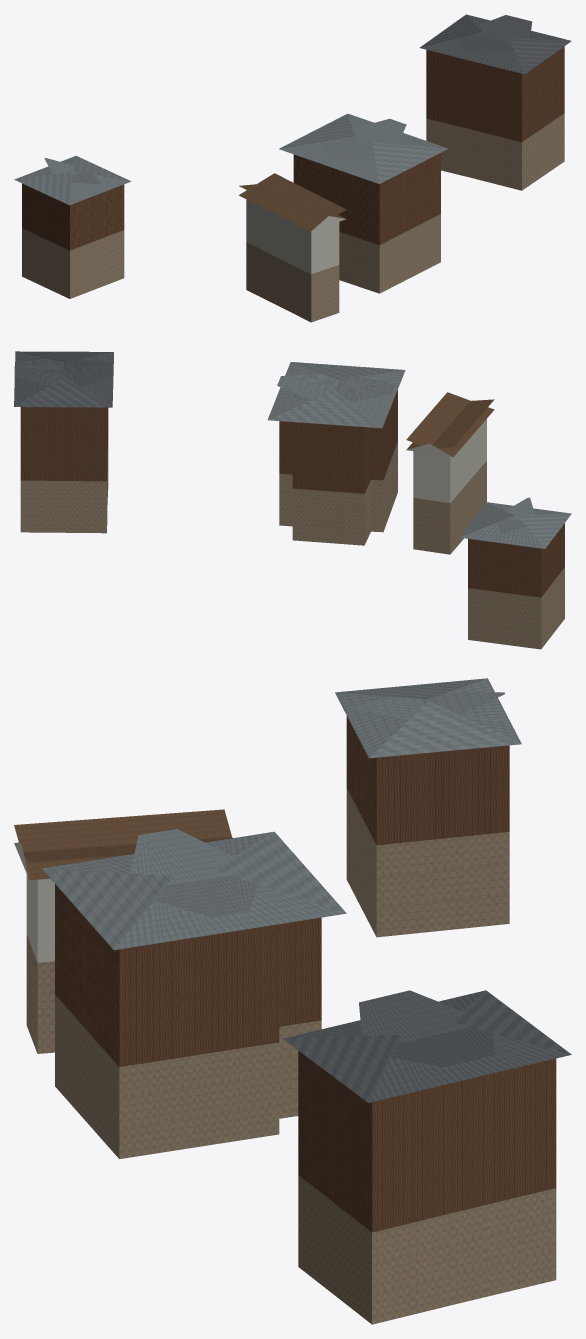
File: bld_c11_18_432.gltf
3 renders of one model, top to bottom at view 1: azimuth 30°, elevation 25°; view 2: azimuth 150°, elevation 25°; view 3: azimuth 270°, elevation 25°, orthographic. The views are drawn at different scales.
Visible parts, largest first — view 1: bld_c11_18_432; view 2: bld_c11_18_432; view 3: bld_c11_18_432.
Part boxes in pixels (x1,y1,x2,y2): bld_c11_18_432: (14, 14, 571, 322); bld_c11_18_432: (14, 351, 571, 649); bld_c11_18_432: (14, 678, 571, 1324).
Size of the model in its own units: 58.02 by 14.7 by 28.04.
Materials: 7 (7 with a texture image).
